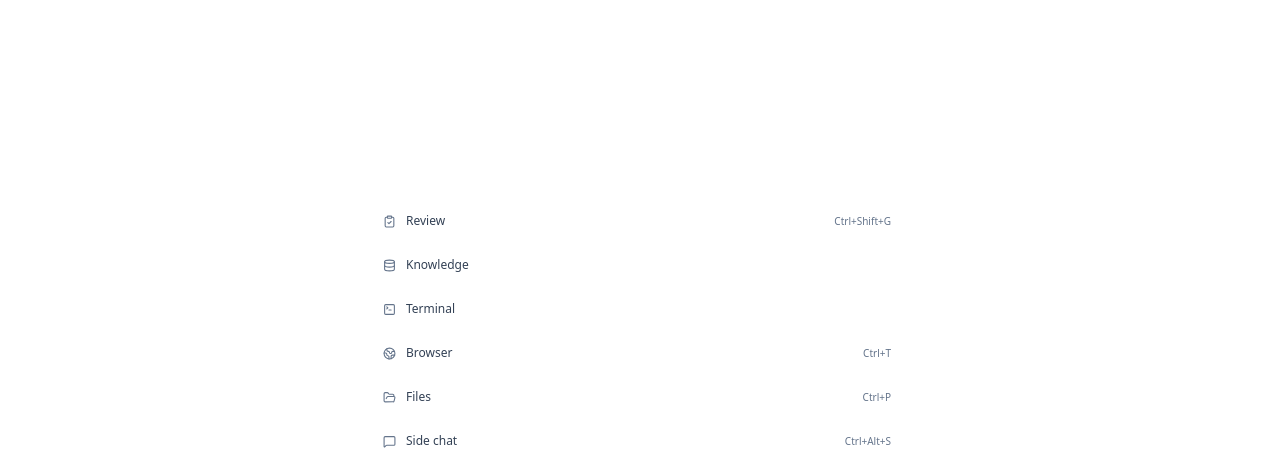
Scenario: workspace panel › browses unchanged workspace files in a collapsible tree
This screenshot has width=1280, height=465.
Click the button "Review Ctrl+Shift+G" at x=426, y=221, box [370,201,910,241]
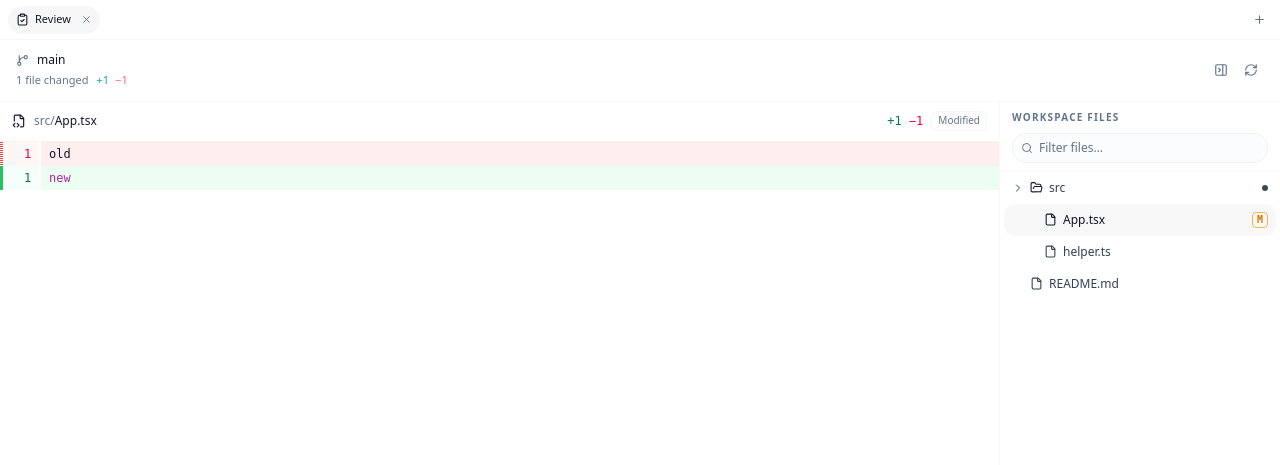
Now the button with aria-label "File src/helper.ts" is shown, box [1004,236,1276,268]
Now the button with aria-label "File README.md" is shown, box [1004,268,1276,300]
Click the button with aria-label "Folder src" at x=1140, y=188, box [1004,172,1276,204]
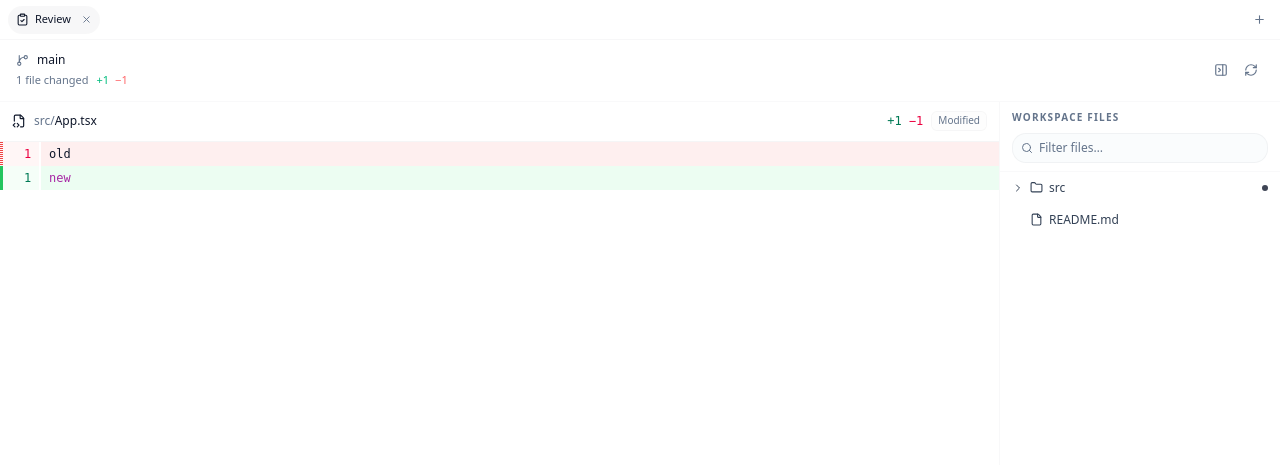
Now the button with aria-label "Folder src" is collapsed
Click the button with aria-label "Folder src" at x=1140, y=188, box [1004,172,1276,204]
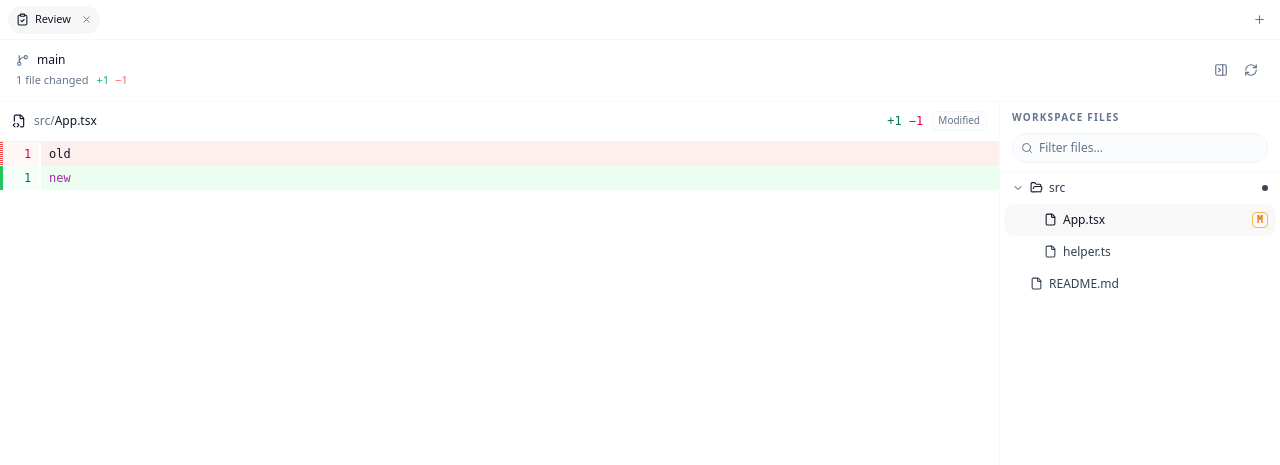
Click the button with aria-label "File src/helper.ts" at x=1087, y=251, box [1004,236,1276,268]
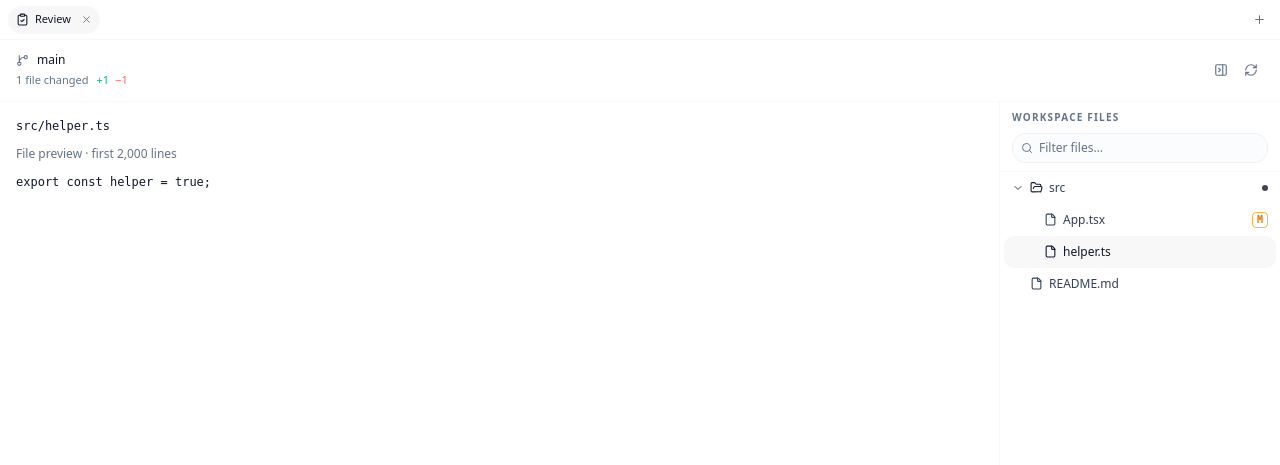
Now the text "export const helper = true;" is shown, box [16,174,211,188]
